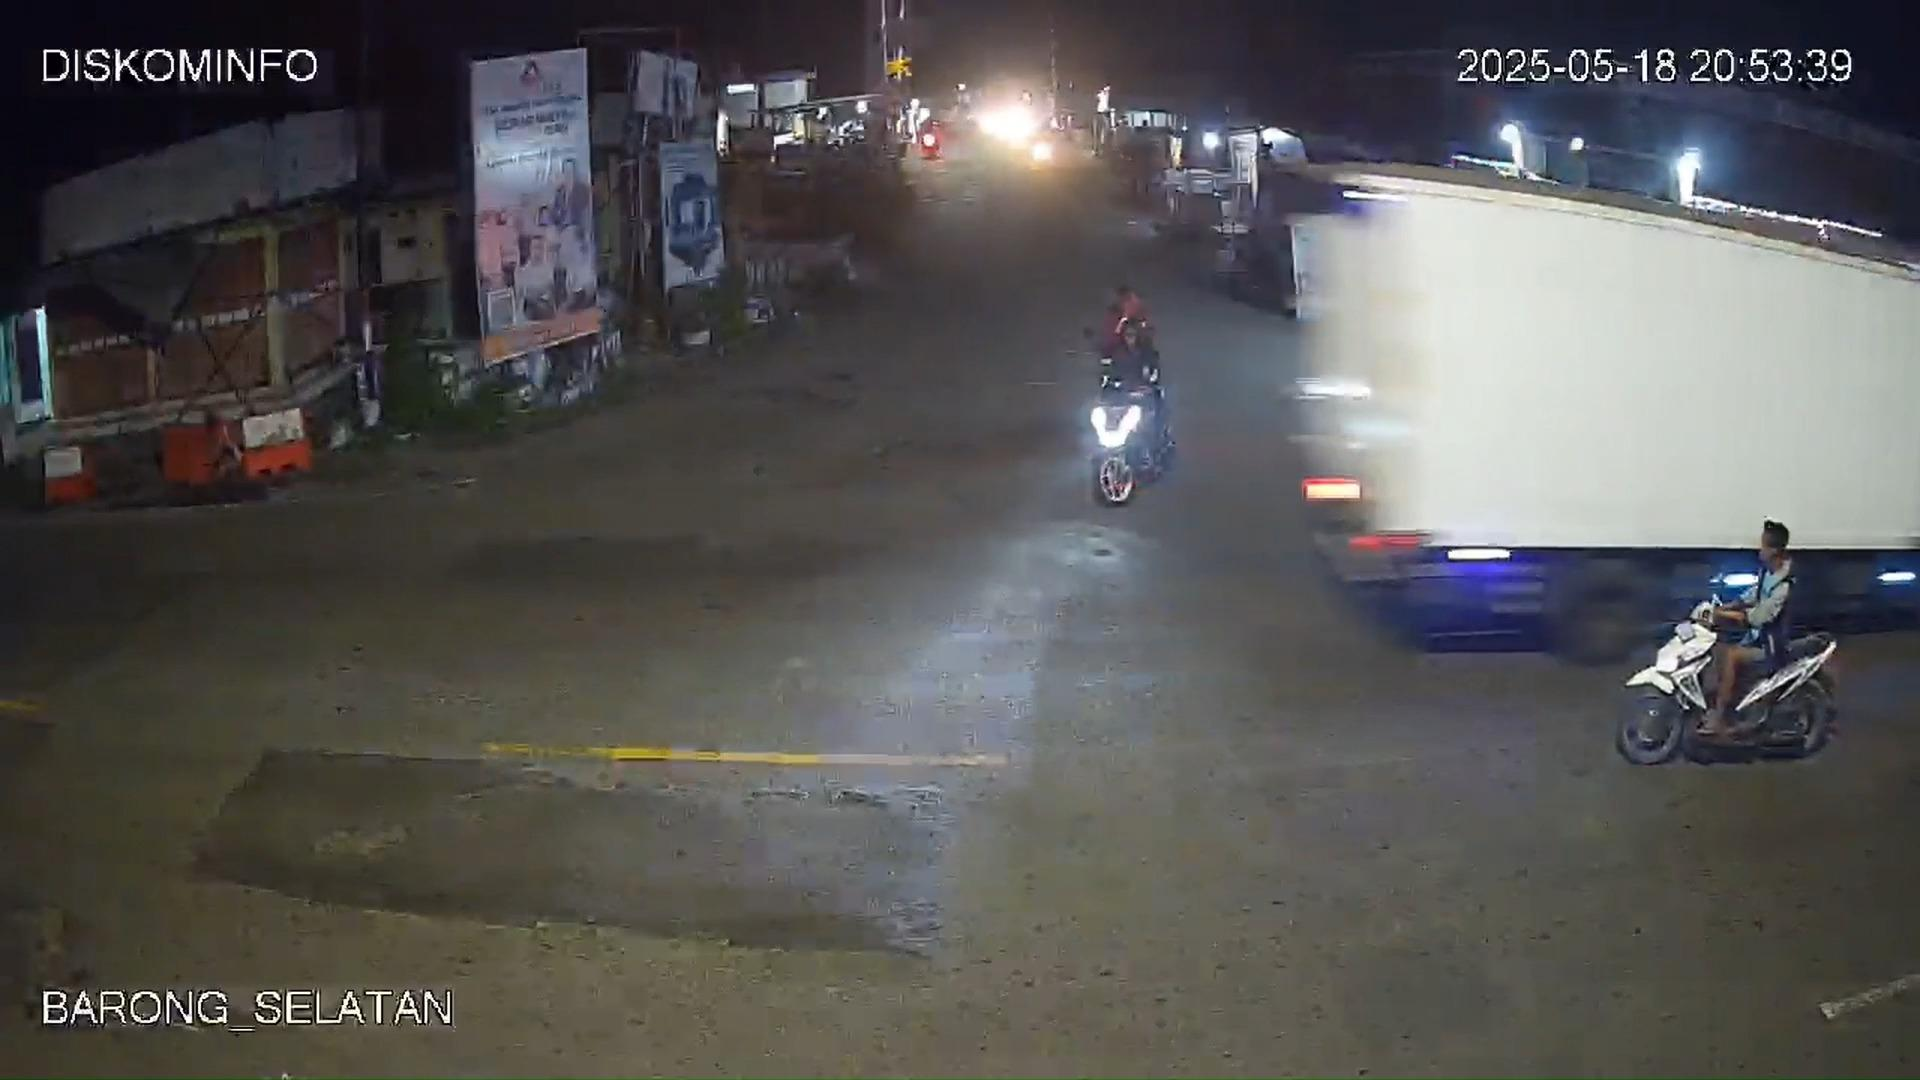Motor: (1615, 593, 1840, 766), (1083, 295, 1175, 508)
